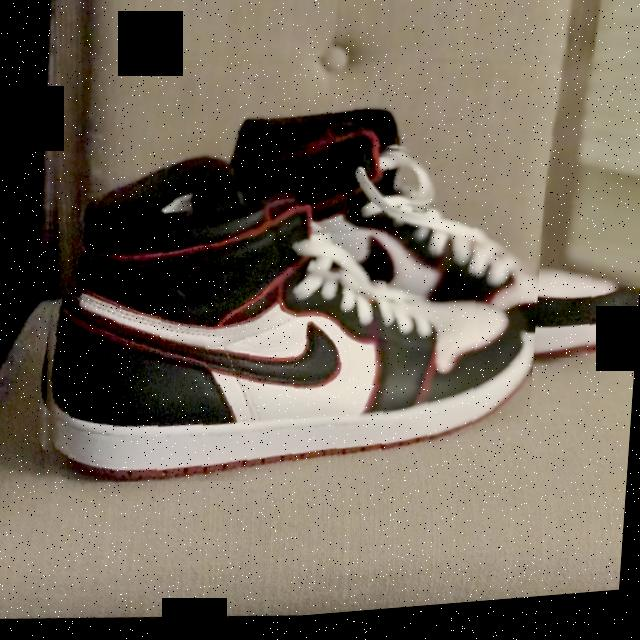shoe: (29, 113, 548, 518), (212, 78, 640, 394)
